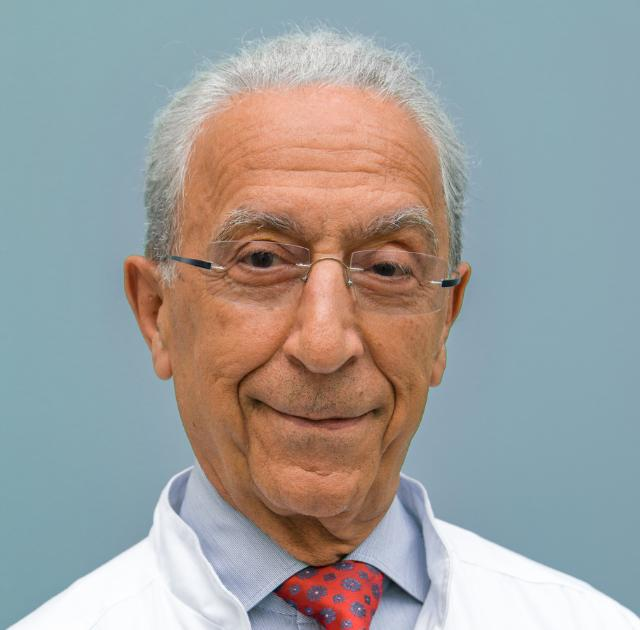chin: (297, 458, 339, 484)
crows_feet: (204, 269, 232, 299), (416, 276, 432, 310)
forehead: (262, 145, 386, 193), (398, 145, 434, 205), (214, 145, 242, 201)
frown_line: (312, 236, 341, 262)
gummy_smile: (234, 342, 278, 388), (364, 344, 400, 400)
sad_smile: (227, 394, 255, 434), (380, 410, 402, 458)
